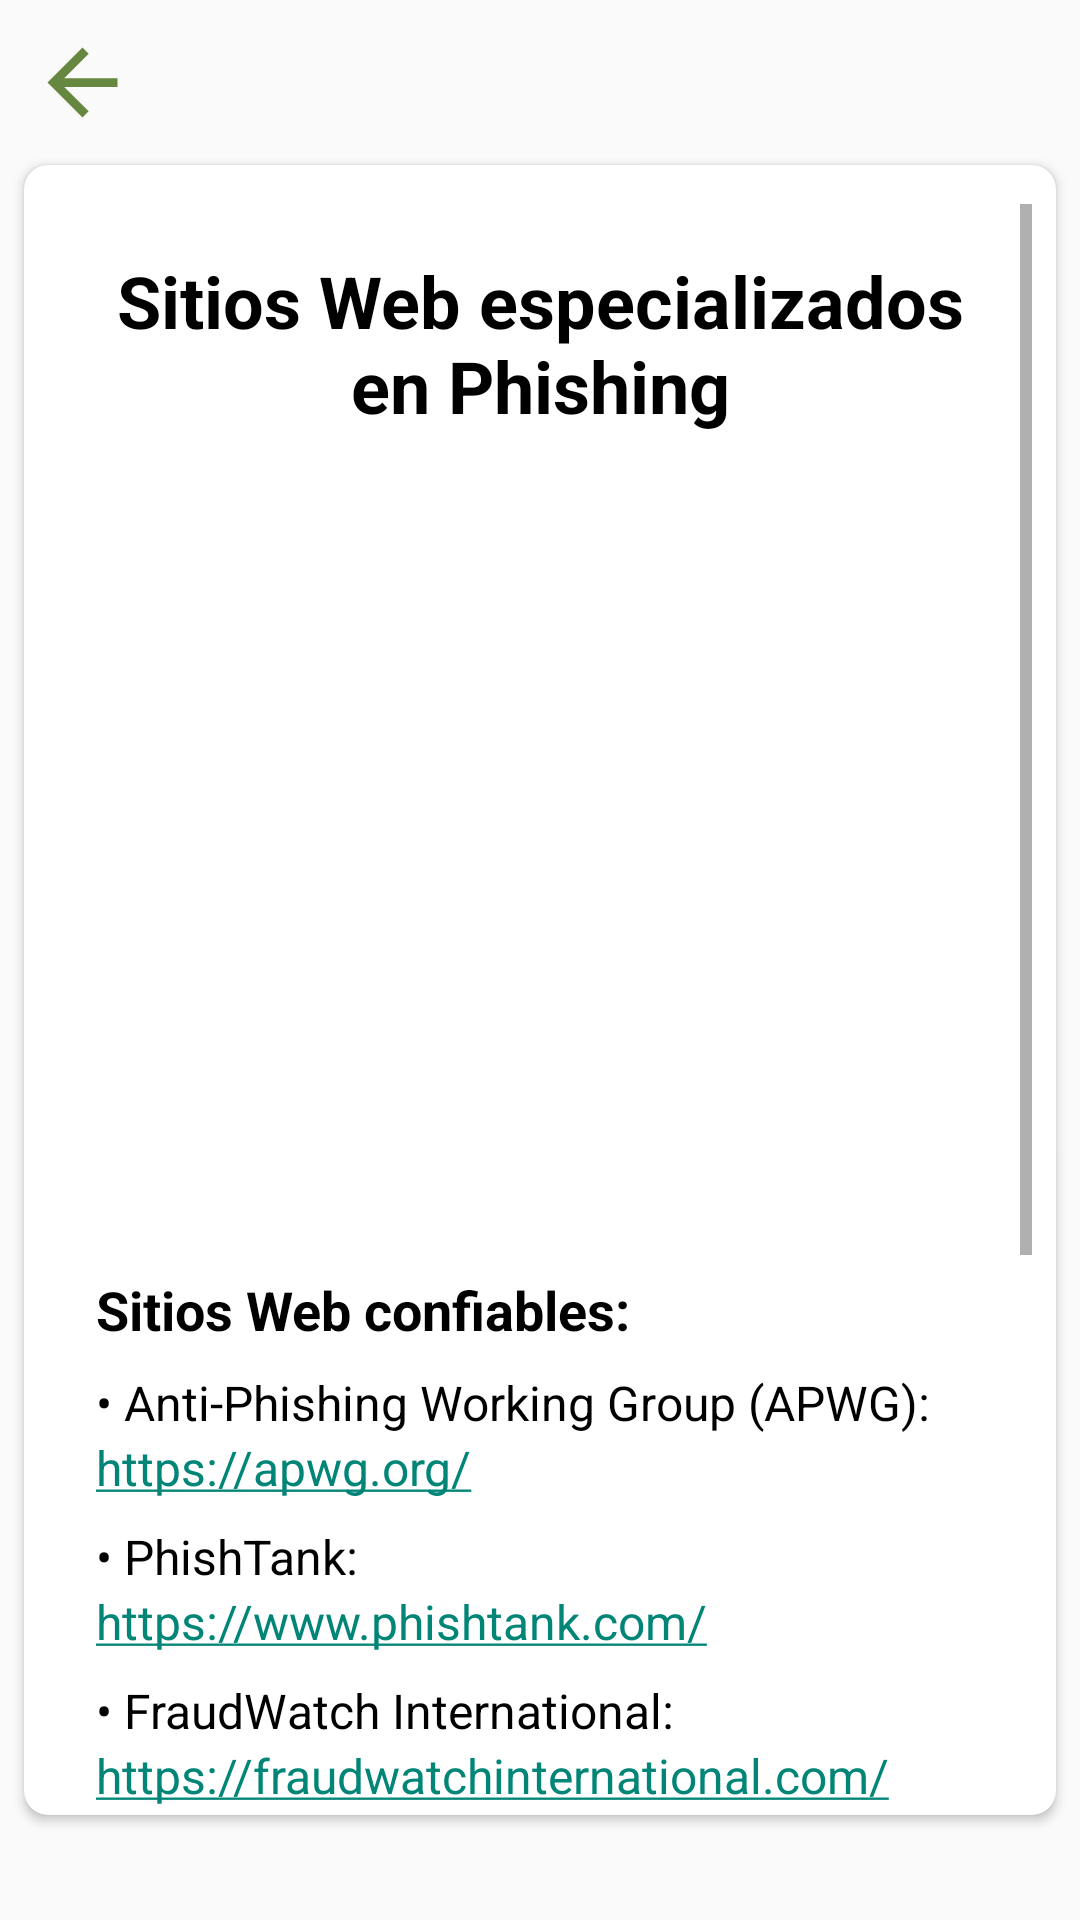

Locate icon controls on the screen. Image size 1080 × 1920, boxes as (x1,y1,x2,y2).
back arrow: (47,47,118,118)
